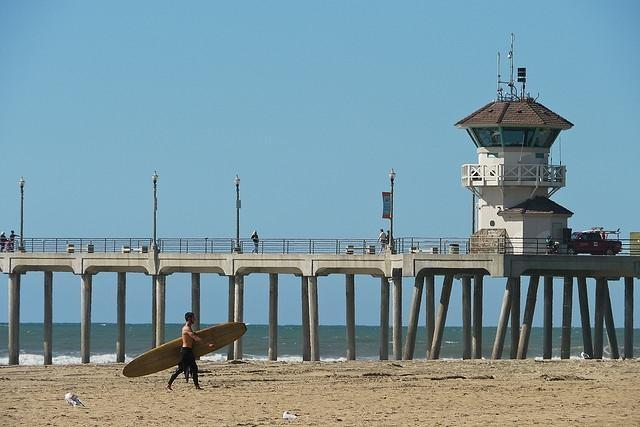truck: (568, 232, 622, 255)
